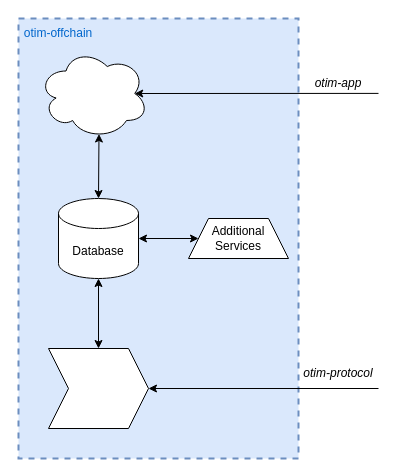
Some shapes in this 404 by 476 pixel diagram are drawn without their labels. Each missing label, with the box of its shape:
API: (38, 48, 148, 138)
Executor: (48, 348, 148, 428)
